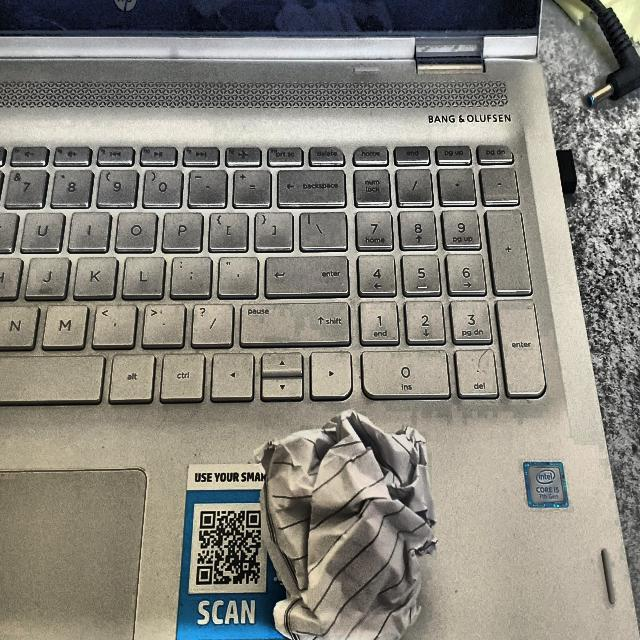paper: (239, 393, 456, 640)
